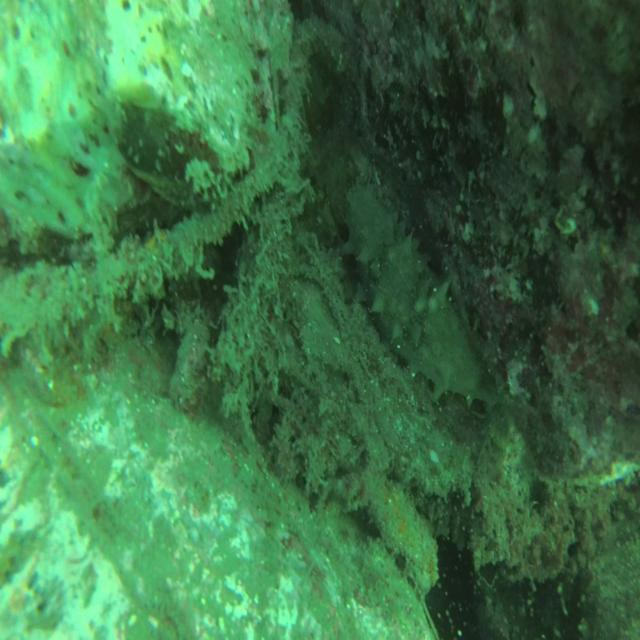holothurian: (339, 174, 489, 404)
